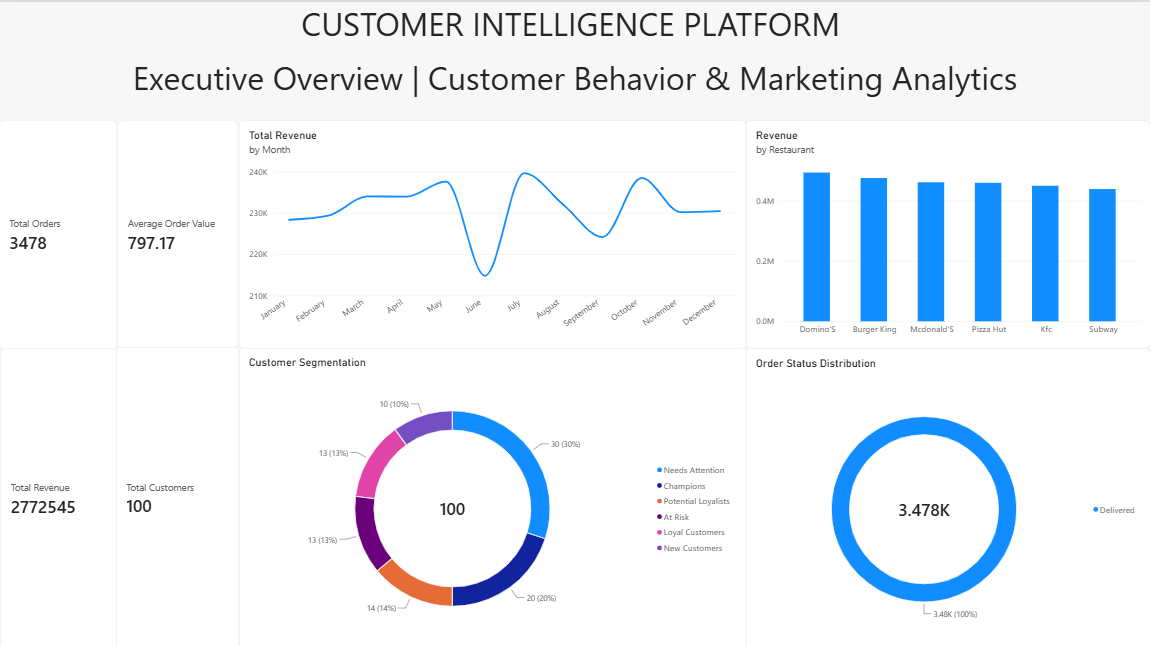

What the dashboard file says about the page in this screenshot:
{"tool":"powerbi","page":{"name":"Executive Overview","canvas":[1920,1080],"ordinal":0},"visuals":[{"type":"cardVisual","fields":{"Data":["orders_powerbi.Total Revenue"]},"box":[2.5,577.5,195,502.5],"z":0},{"type":"cardVisual","fields":{"Data":["orders_powerbi.Total Orders"]},"box":[0,197.5,197.5,380],"z":1000},{"type":"cardVisual","fields":{"Data":["orders_powerbi.Average Order Value"]},"box":[197.5,197.5,200,380],"z":2000},{"type":"cardVisual","fields":{"Data":["orders_powerbi.Total Customers"]},"box":[195,575,205,505],"z":3000},{"type":"textbox","box":[68,0,300,300],"z":4000},{"type":"textbox","box":[0,0,1920,196],"z":5000},{"type":"donutChart","title":"Customer Segmentation ","fields":{"Category":["customer_intelligence_final.customer_segment"],"Y":["CountNonNull(customer_intelligence_final.customer_id)"]},"box":[400,575,845,505],"z":6000},{"type":"lineClusteredColumnComboChart","fields":{"Category":["orders_powerbi.Restaurant Name"],"Y":["Sum(orders_powerbi.Final Bill Amount (₹))"]},"box":[1245,197.5,675,380],"z":7000},{"type":"lineChart","fields":{"Category":["orders_powerbi.Order Date & Time.Variation.Date Hierarchy.Month"],"Y":["orders_powerbi.Total Revenue"]},"box":[400,197.5,845,380],"z":8000},{"type":"donutChart","title":"Order Status Distribution ","fields":{"Category":["orders_powerbi.Order Status"],"Y":["CountNonNull(orders_powerbi.Order ID)"]},"box":[1245,577.5,675,502.5],"z":9000}]}

Visuals, with their boxes in screenshot pixels (x1, y1, x2, y2), scaled from the page's 1920x1080 canvas onto the 1150x646 screenshot:
cardVisual - orders_powerbi.Total Revenue: x1=1, y1=345, x2=118, y2=645
cardVisual - orders_powerbi.Total Orders: x1=0, y1=118, x2=118, y2=345
cardVisual - orders_powerbi.Average Order Value: x1=118, y1=118, x2=238, y2=345
cardVisual - orders_powerbi.Total Customers: x1=117, y1=344, x2=240, y2=645
textbox: x1=41, y1=0, x2=220, y2=179
textbox: x1=0, y1=0, x2=1149, y2=117
"Customer Segmentation " donutChart: x1=240, y1=344, x2=746, y2=645
lineClusteredColumnComboChart - orders_powerbi.Restaurant Name x Sum(orders_powerbi.Final Bill Amount (₹)): x1=746, y1=118, x2=1149, y2=345
lineChart - orders_powerbi.Order Date & Time.Variation.Date Hierarchy.Month x orders_powerbi.Total Revenue: x1=240, y1=118, x2=746, y2=345
"Order Status Distribution " donutChart: x1=746, y1=345, x2=1149, y2=645
